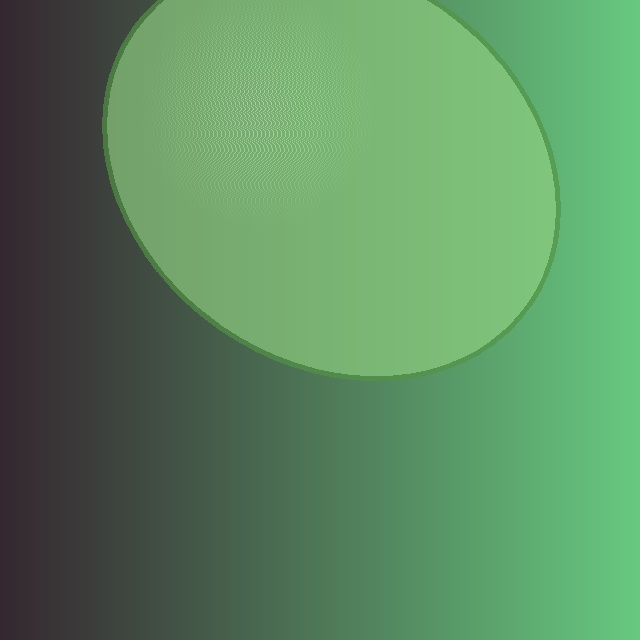lens: (104, 0, 558, 378)
